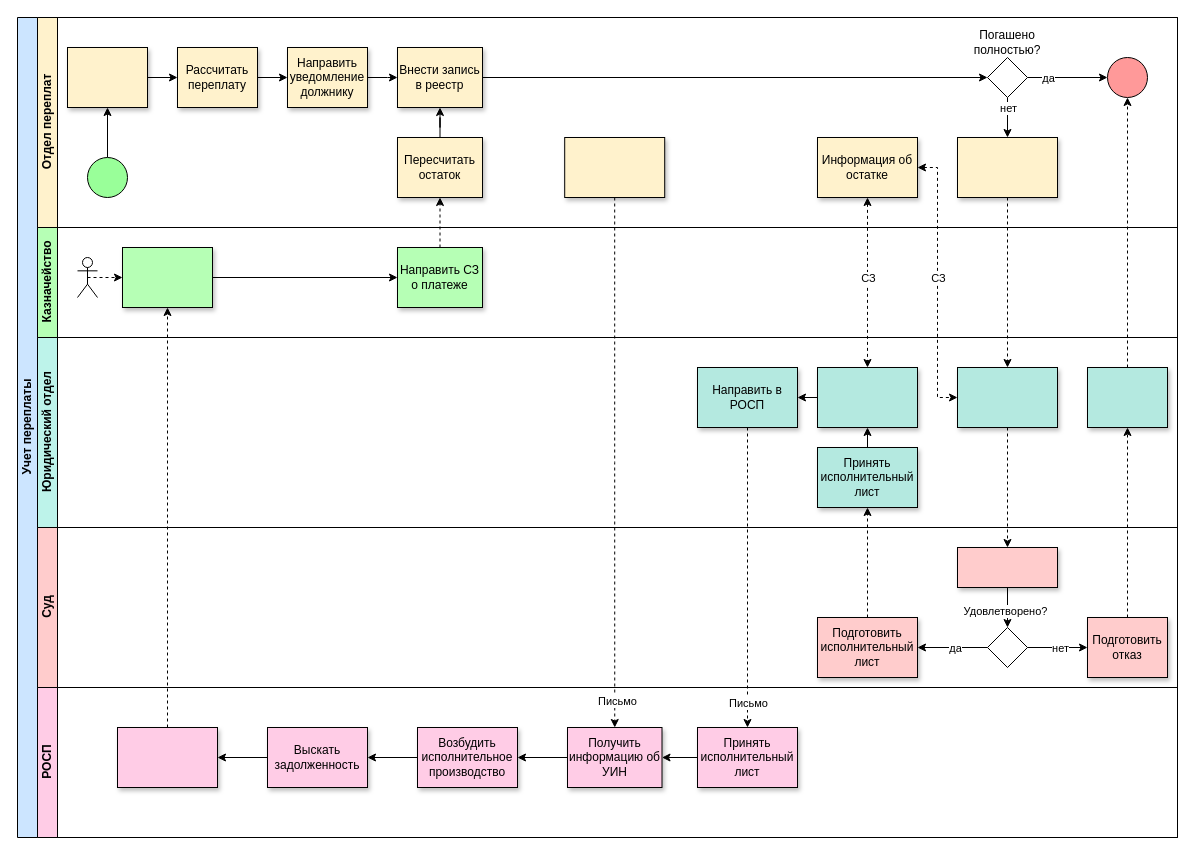
Image size: 1195x855. Some labels were removed from this diagram. The centre of each missing label's shape, as x and y in pixels:
Должник: pixel 87 277
Запросить информацию об остатке: pixel 868 398
Информация о присвоении УИН: pixel 615 168
Направить средства взыскателю: pixel 168 758
Подготовить иск в суд: pixel 1008 398
Подготовить пакет документов в суд: pixel 1008 168
Принять платеж: pixel 168 278
Принять процесс о постановке: pixel 108 78
Рассмотреть дело: pixel 1008 568
Списать переплату: pixel 1128 398
